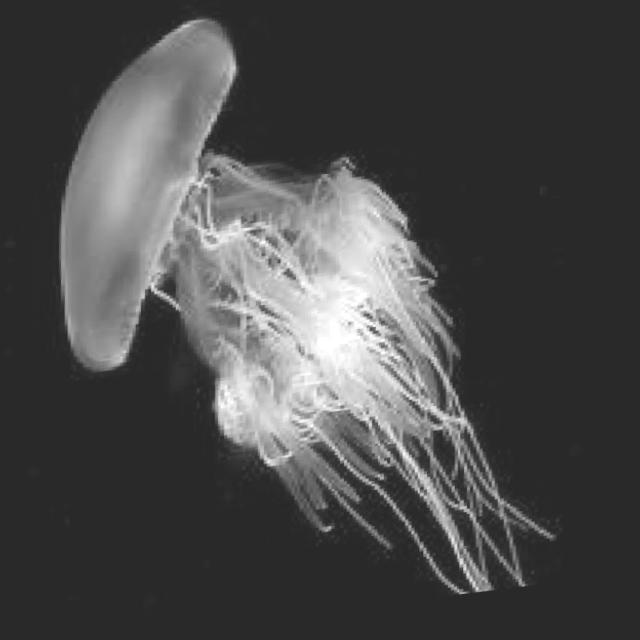Human: (33, 0, 600, 636)
